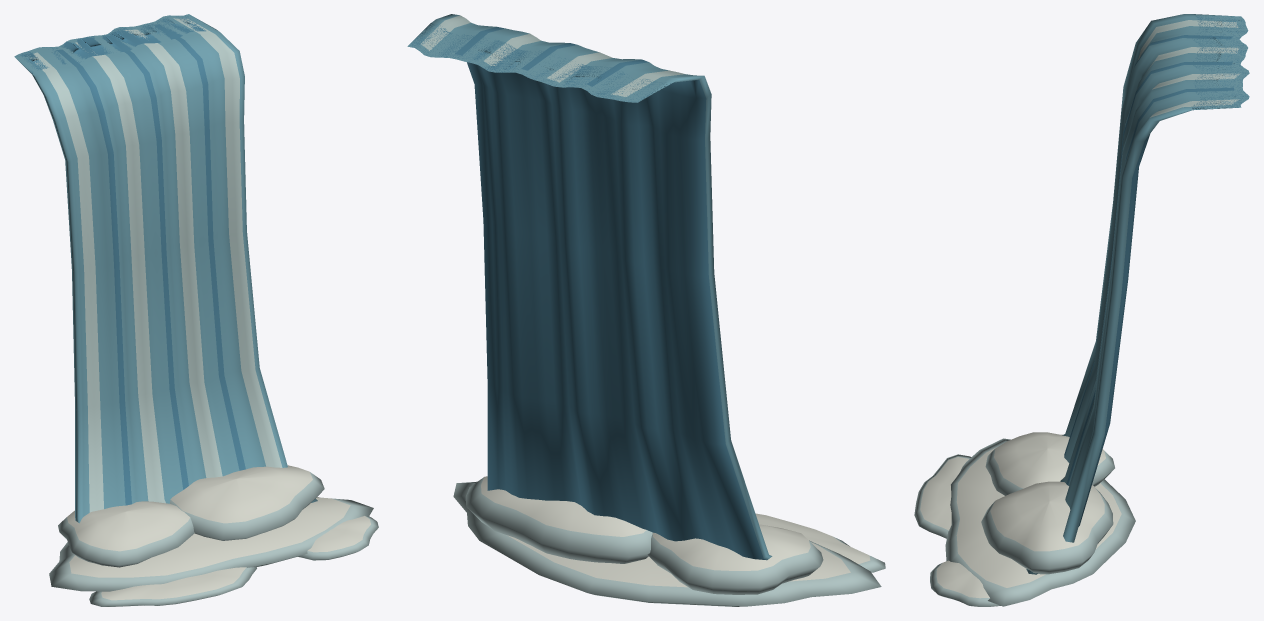
File: fw_waterfall_ribbon_foam.hi.glb
The picture shows the model from 3 angles, left to right: view 1: azimuth 30°, elevation 25°; view 2: azimuth 150°, elevation 25°; view 3: azimuth 270°, elevation 25°; orthographic projection. The views are drawn at different scales.
Parts seen in each view (by area): view 1: body; view 2: body; view 3: body.
Boxes of the visible parts, x1,y1,x2,y2 form: body: (14,14,378,606); body: (407,14,885,606); body: (914,14,1249,606).
Bounding box in the file's own units: 2.05 × 2.69 × 1.72.
